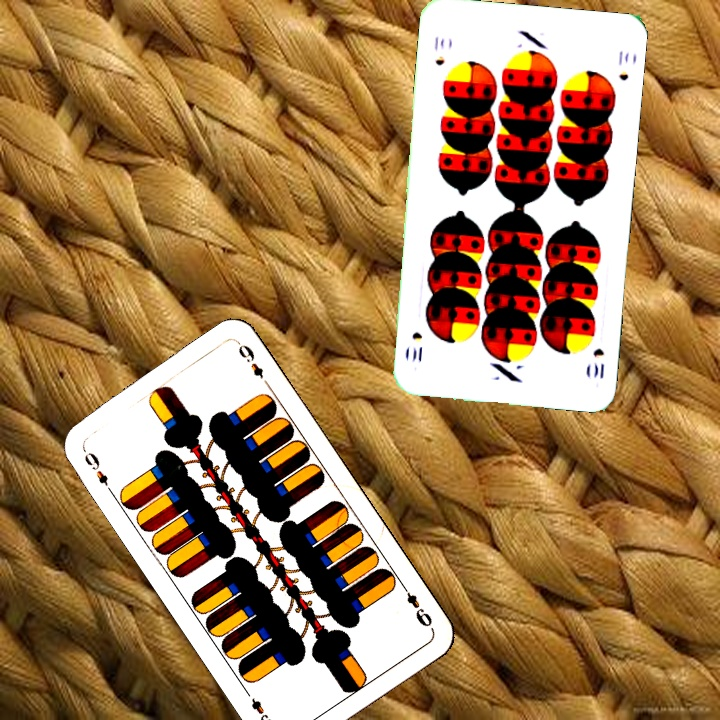E9: (78, 444, 116, 497), (397, 579, 435, 630)
S10: (589, 344, 607, 382), (430, 33, 447, 68)
